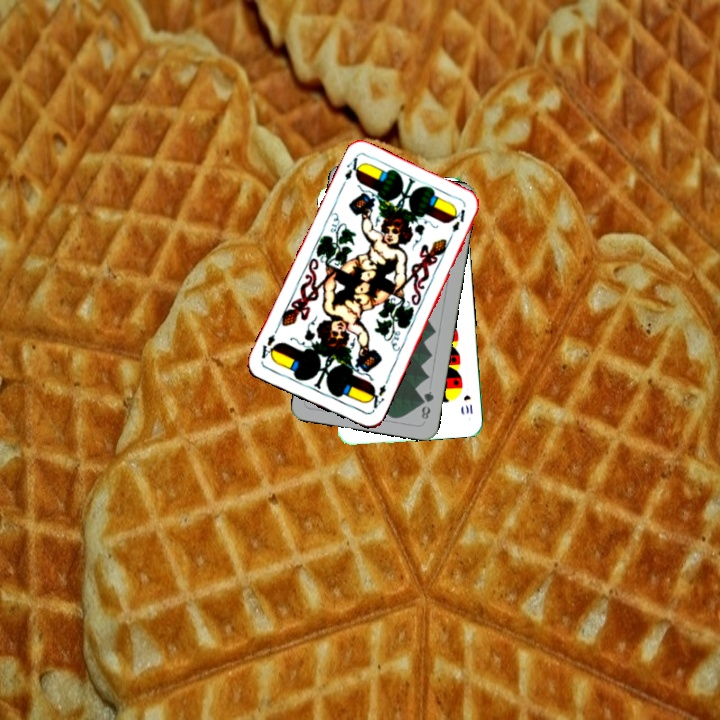EA: (337, 153, 365, 191), (364, 375, 391, 414)
G8: (417, 387, 437, 422)
S10: (460, 391, 475, 417)
